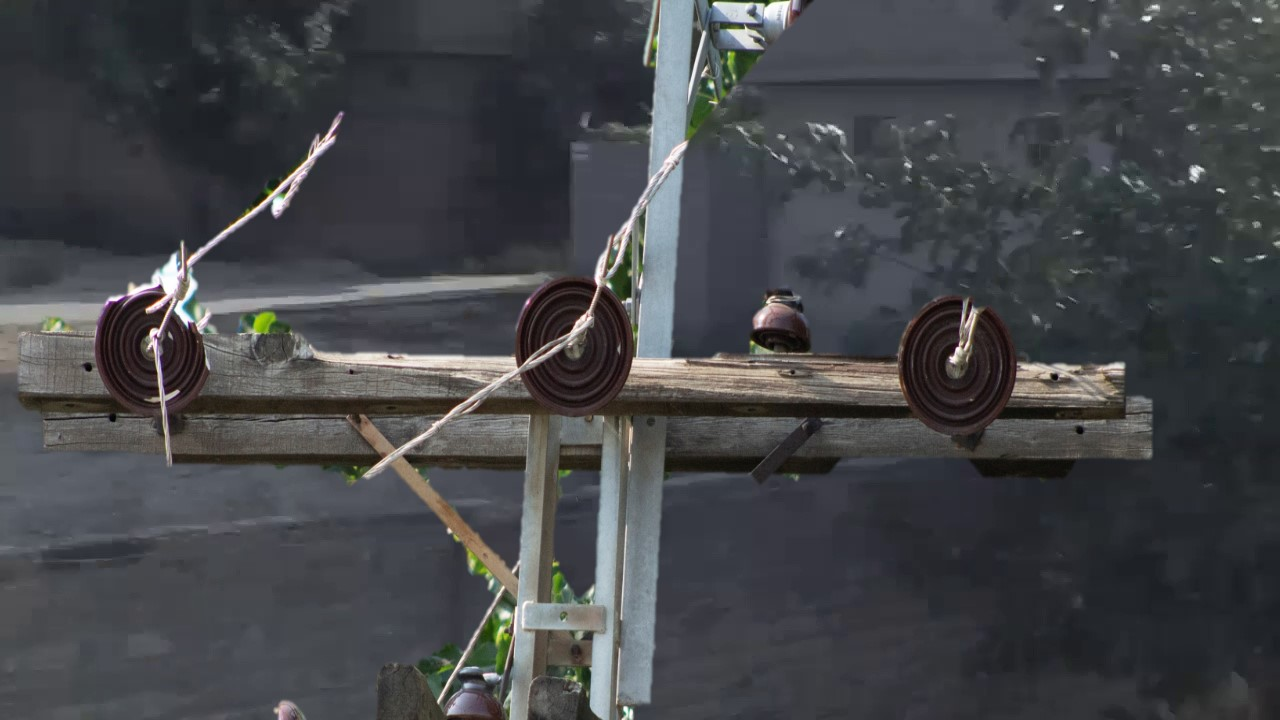defect_disc: (92, 276, 219, 421)
insulator_disc: (892, 285, 1023, 442), (508, 274, 639, 424)
insulator_pin: (748, 284, 817, 355), (445, 668, 509, 714)
